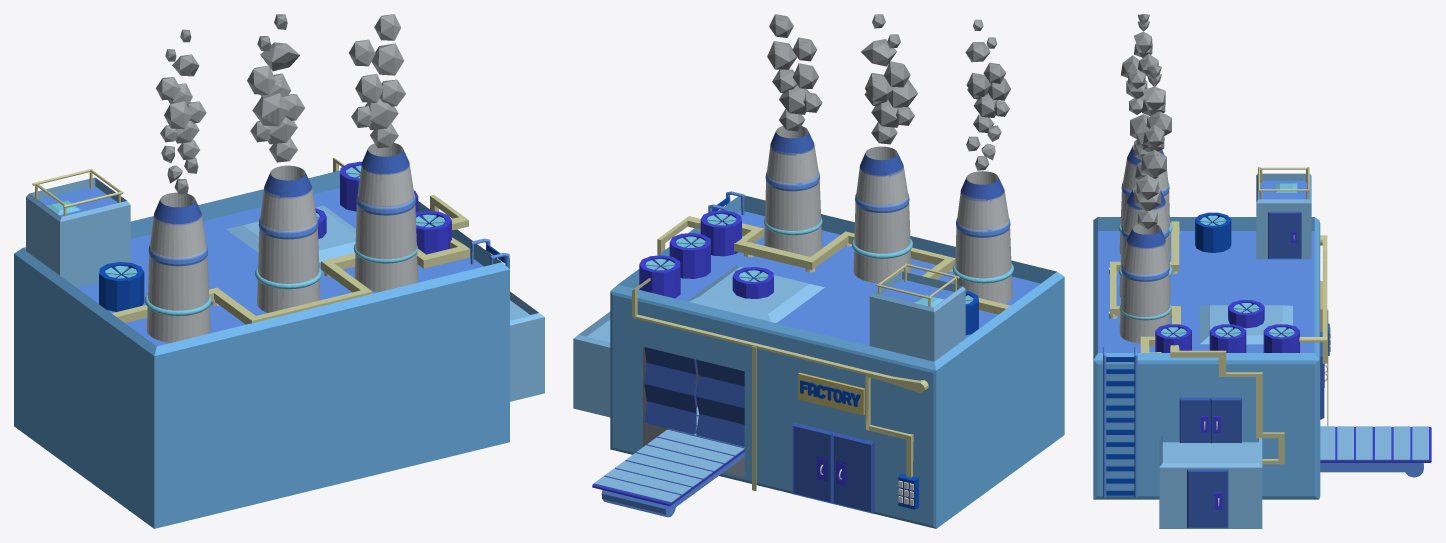
Rendered from powerplant.glb.
3 views of the same model, side by side, from view 1: azimuth 30°, elevation 25°; view 2: azimuth 150°, elevation 25°; view 3: azimuth 270°, elevation 25° (orthographic). The views are drawn at different scales.
Visible parts, largest first — view 1: Node; view 2: Node; view 3: Node.
Boxes of the visible parts, x1=… form: Node: x1=14, y1=14, x2=544, y2=528; Node: x1=573, y1=14, x2=1064, y2=528; Node: x1=1093, y1=14, x2=1431, y2=528.
Size of the model in its own units: 792 by 796 by 656.
Materials: 1 (1 with a texture image).
